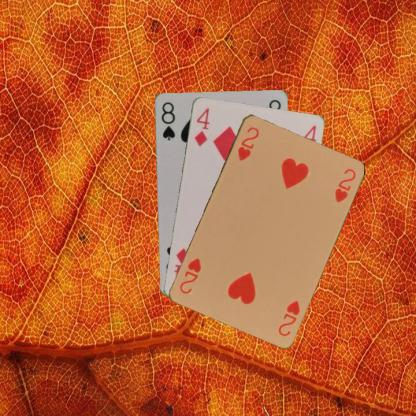2h: (275, 297, 301, 337), (235, 124, 260, 162)
4d: (191, 104, 211, 147)
8s: (158, 98, 176, 141)
